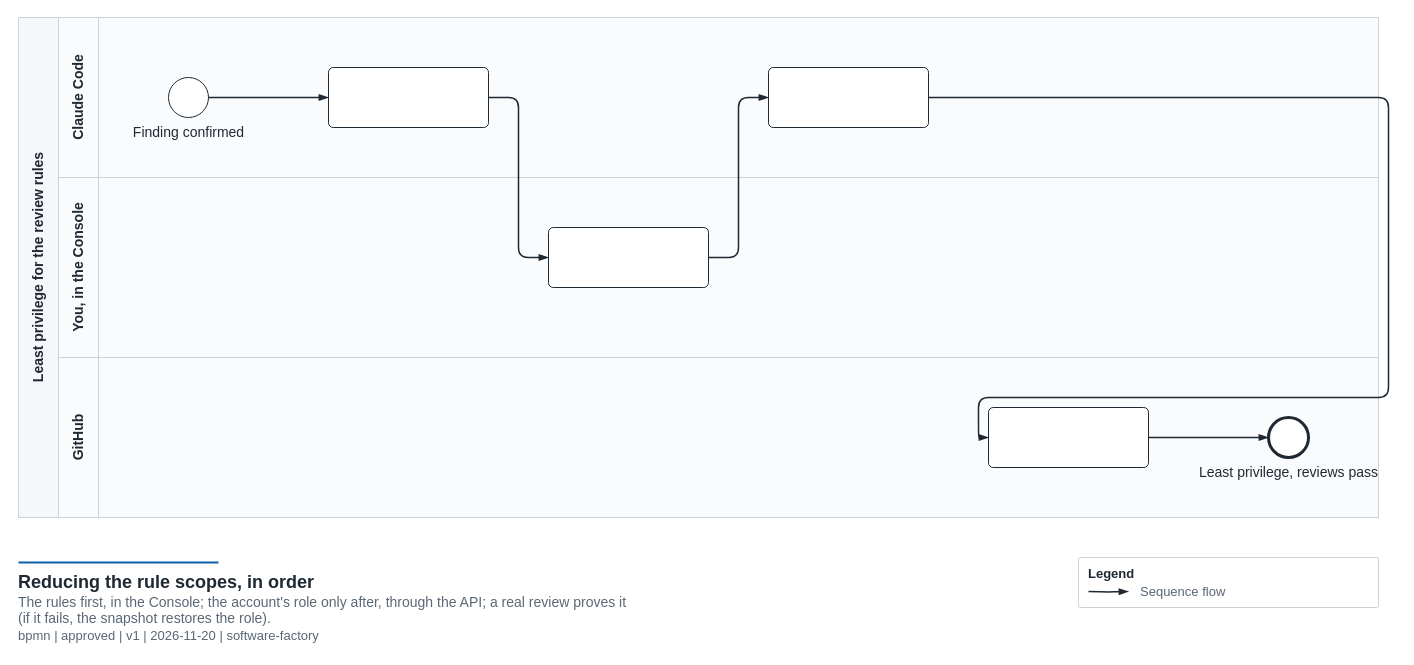
Some shapes in this 1414 by 665 pixel diagram are drawn without their labels. The centre of each missing label's shape, as x and y in pixels:
Account role to developer: point (848, 97)
Each rule to workspace:developer: point (628, 257)
Re-run a real review: point (1068, 437)
Snapshot rules and account: point (408, 97)
